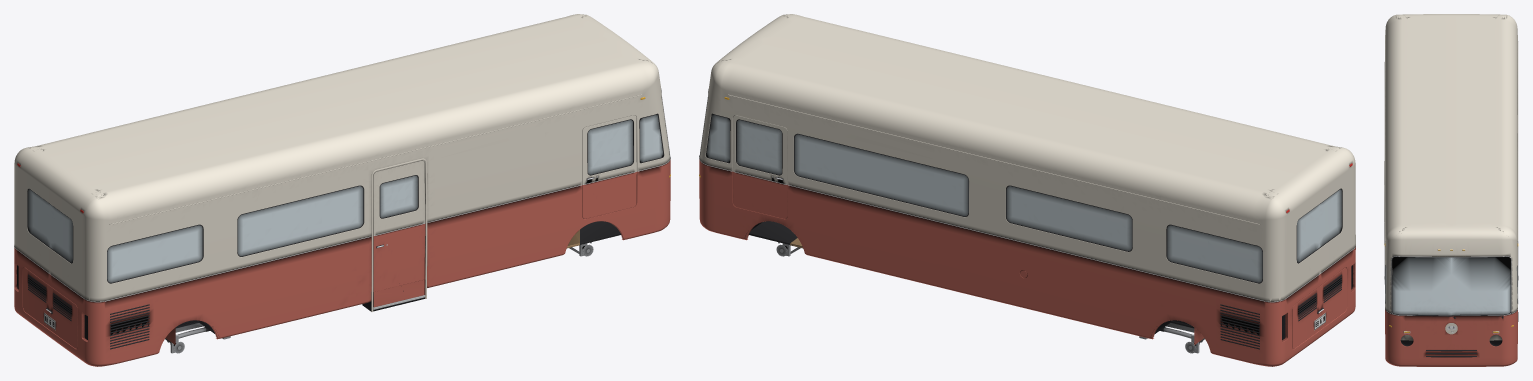
File: elephant.glb
The picture shows the model from 3 angles, left to right: view 1: azimuth 30°, elevation 25°; view 2: azimuth 150°, elevation 25°; view 3: azimuth 270°, elevation 25°; orthographic projection. The views are drawn at different scales.
Parts seen in each view (by area): view 1: BODY, GLASS, P_door_side, P_door_FR, P_hood, PG_door_FR, PG_door_side, INTERIOR; view 2: BODY, GLASS, P_door_FL, P_hood, PG_door_FL, INTERIOR, UNDER; view 3: BODY, GLASS, INTERIOR.
Part boxes in pixels (bbox=[...]): BODY: bbox=[14, 14, 670, 366]; GLASS: bbox=[28, 114, 663, 282]; P_door_side: bbox=[373, 160, 424, 307]; P_door_FR: bbox=[582, 115, 636, 218]; P_hood: bbox=[23, 267, 77, 348]; PG_door_FR: bbox=[588, 120, 633, 174]; PG_door_side: bbox=[380, 175, 417, 217]; INTERIOR: bbox=[16, 218, 620, 337]; BODY: bbox=[699, 14, 1355, 366]; GLASS: bbox=[706, 114, 1341, 282]; P_door_FL: bbox=[733, 115, 787, 218]; P_hood: bbox=[1292, 267, 1346, 348]; PG_door_FL: bbox=[736, 120, 781, 174]; INTERIOR: bbox=[749, 218, 1353, 337]; UNDER: bbox=[745, 222, 1204, 344]; BODY: bbox=[1384, 14, 1518, 366]; GLASS: bbox=[1385, 257, 1517, 314]; INTERIOR: bbox=[1401, 335, 1502, 340].
Size of the model in its own units: 9.76 by 2.88 by 2.42.
